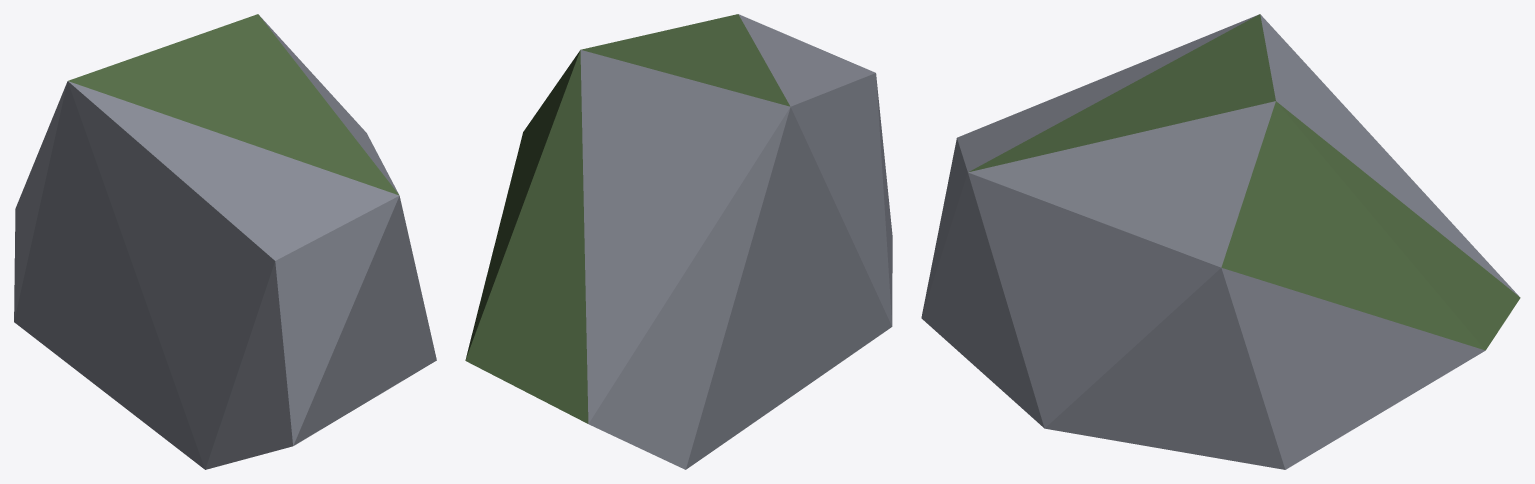
File: Rock_Moss_4.lod4.glb
3 renders of one model, left to right at view 1: azimuth 30°, elevation 25°; view 2: azimuth 150°, elevation 25°; view 3: azimuth 270°, elevation 25°, orthographic. The views are drawn at different scales.
Parts seen in each view (by area): view 1: Rock_Moss_4; view 2: Rock_Moss_4; view 3: Rock_Moss_4.
Boxes of the visible parts, left/top/right/bottom form: Rock_Moss_4: left=14, top=14, right=436, bottom=469; Rock_Moss_4: left=465, top=14, right=892, bottom=469; Rock_Moss_4: left=921, top=14, right=1520, bottom=469.
Size of the model in its own units: 0.7428 by 0.7852 by 1.28.
